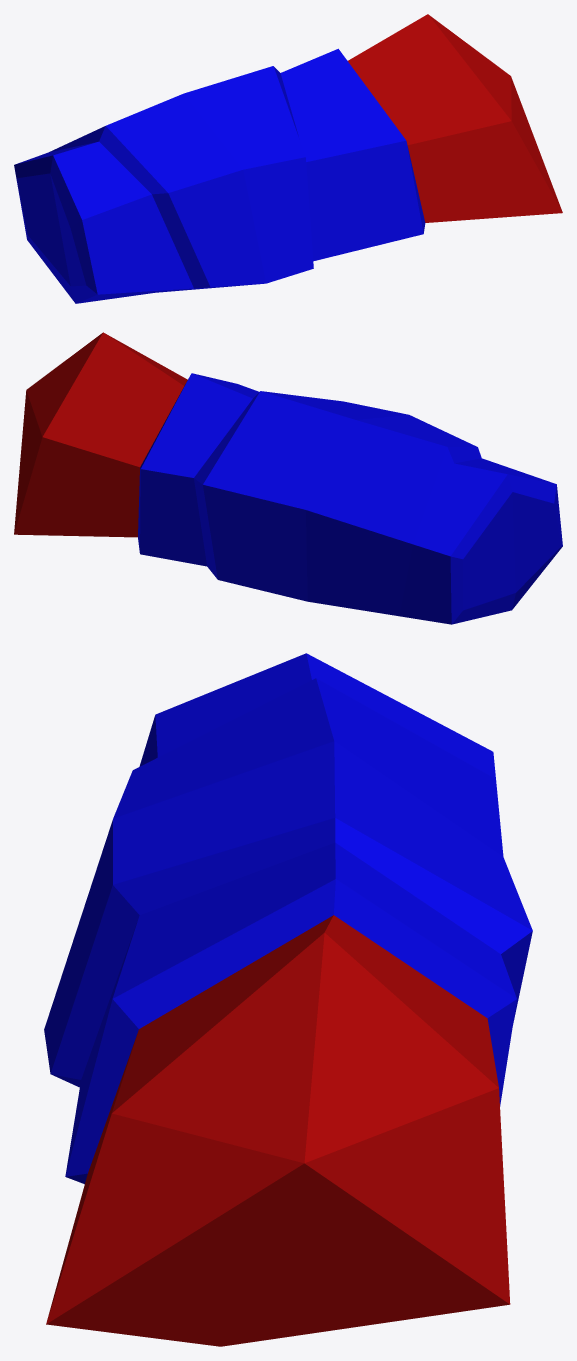
The model's file is Chr_ArmUpperRight_Male_Static_11.fbx.
3 renders of one model, top to bottom at view 1: azimuth 30°, elevation 25°; view 2: azimuth 150°, elevation 25°; view 3: azimuth 270°, elevation 25°, orthographic. The views are drawn at different scales.
Visible parts, largest first — view 1: Chr_ArmUpperRight_Male_11; view 2: Chr_ArmUpperRight_Male_11; view 3: Chr_ArmUpperRight_Male_11.
Boxes of the visible parts, x1,y1,x2,y2 form: Chr_ArmUpperRight_Male_11: (14,14,562,303); Chr_ArmUpperRight_Male_11: (14,332,562,624); Chr_ArmUpperRight_Male_11: (44,653,532,1346).
Size of the model in its own units: 33.45 by 13.63 by 15.04.
